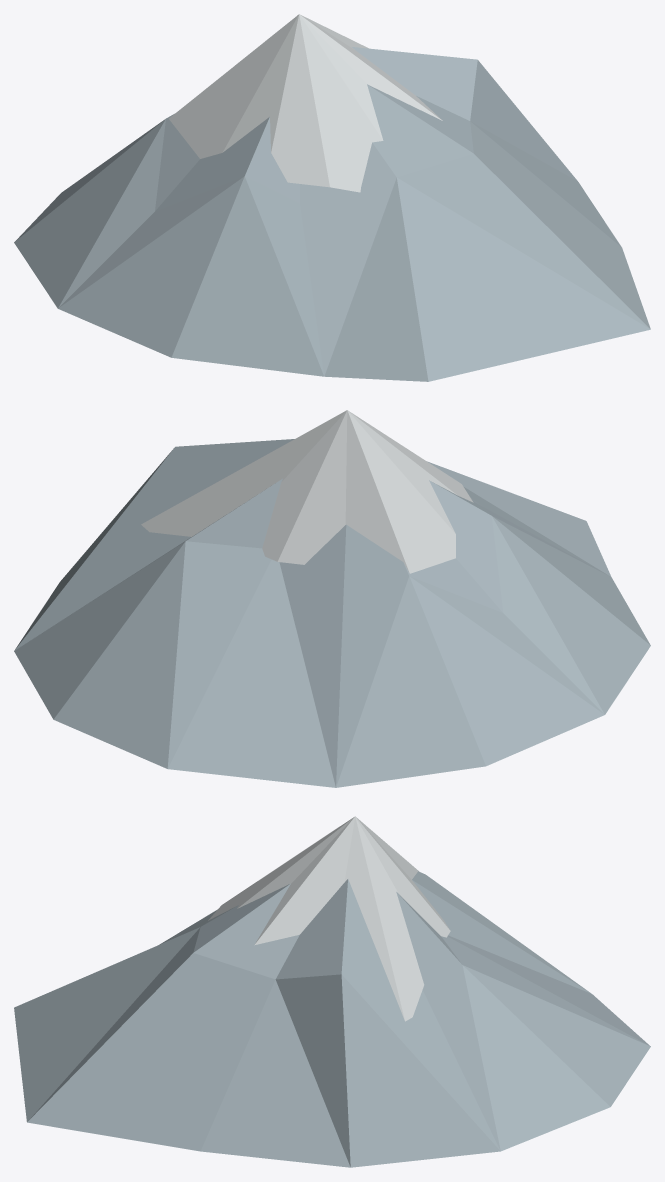
File: Mountain.fbx
3 views of the same model, one above another, from view 1: azimuth 30°, elevation 25°; view 2: azimuth 150°, elevation 25°; view 3: azimuth 270°, elevation 25° (orthographic). The views are drawn at different scales.
Visible parts, largest first — view 1: model1:Mesh; view 2: model1:Mesh; view 3: model1:Mesh.
Boxes of the visible parts, x1=… form: model1:Mesh: x1=14, y1=14, x2=650, y2=381; model1:Mesh: x1=14, y1=410, x2=650, y2=787; model1:Mesh: x1=14, y1=816, x2=650, y2=1167.
Bounding box in the file's own units: 3150 × 1400 × 3500.
